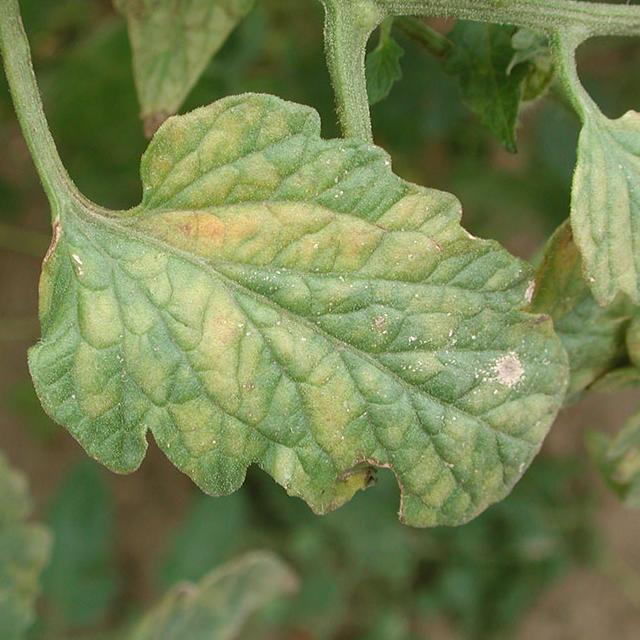Tomato mold leaf: (25, 93, 584, 552), (560, 108, 640, 332)
